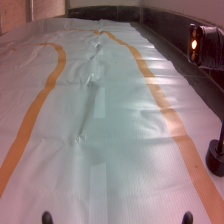yellow: (186, 19, 224, 177)
